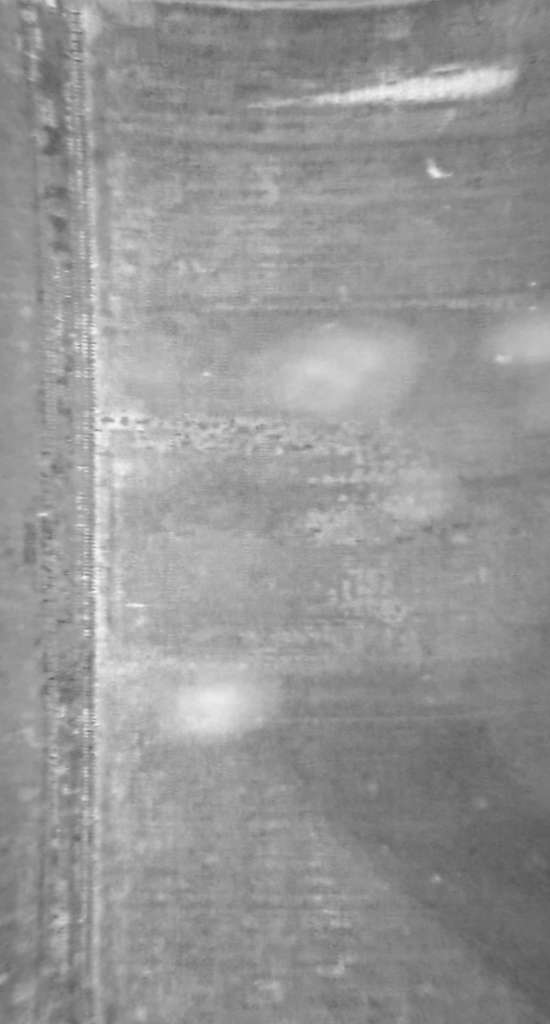splice: (16, 1, 99, 1024)
